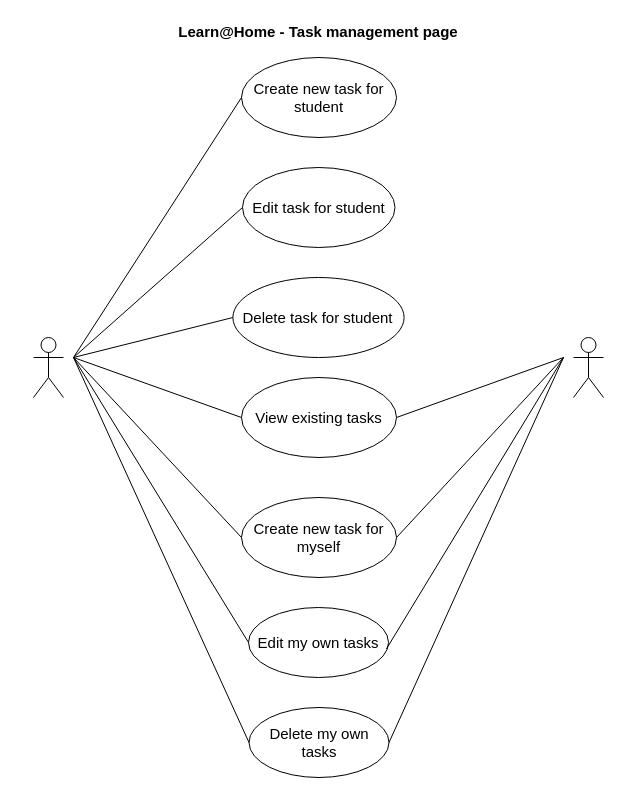
The diagram is 632 pixels wide and 795 high, and some of its shapes have lost their labels. Here are the shapes that lost their labels. From the top down, the box of each, then its label:
(32, 336, 64, 398): Volunteer
(572, 336, 604, 398): Student
